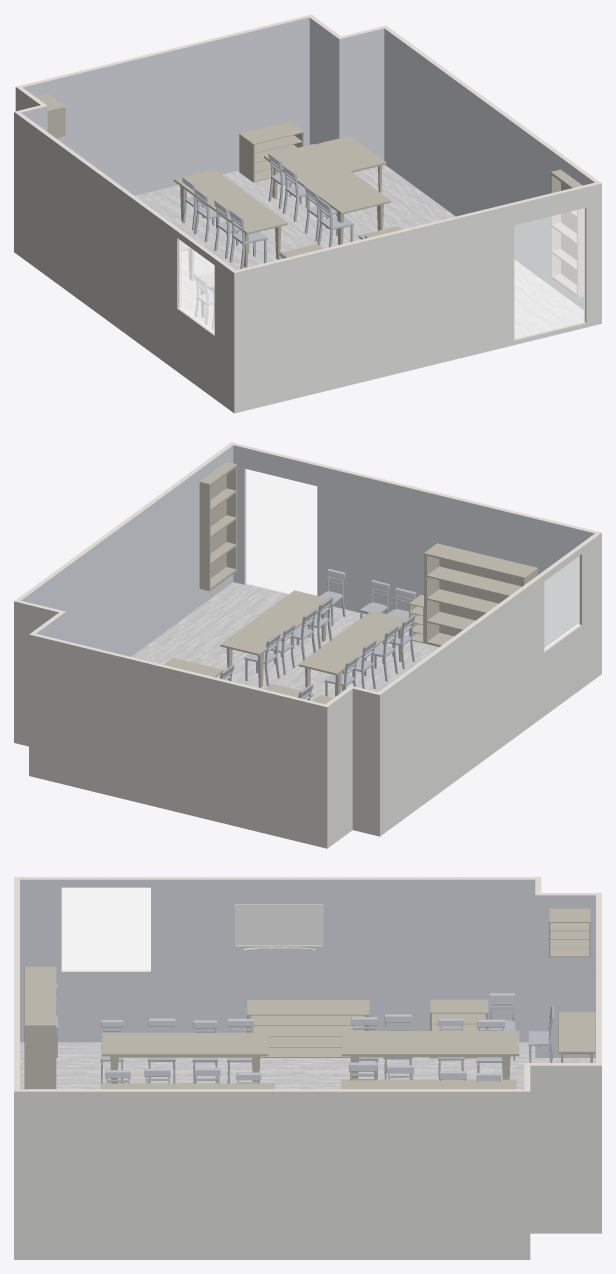
File: DigitalMakerHub2.glb
3 views of the same model, one above another, from view 1: azimuth 30°, elevation 25°; view 2: azimuth 150°, elevation 25°; view 3: azimuth 270°, elevation 25° (orthographic). The views are drawn at different scales.
Parts seen in each view (by area): view 1: ceiling_Dining_Room_2, wall_2, wall_8, wall_1, wall_20, floor_Dining_Room, door_0, door_2, ceiling_Dining_Room, wall_14, table_dining_rect5, wall_18 (+16 smaller); view 2: ceiling_Dining_Room_2, wall_0, wall_1, wall_12, wall_20, floor_Dining_Room, door_0, door_2, storage_shelf3, ceiling_Dining_Room, storage_shelf6, wall_4 (+18 smaller); view 3: ceiling_Dining_Room_2, wall_6, wall_10, wall_5, floor_Dining_Room, ceiling_Dining_Room, window_0, window_2, wall_22, storage_shelf0, table_dining_rect0, table_dining_rect2 (+17 smaller).
Boxes of the visible parts, x1,y1,x2,y2 form: ceiling_Dining_Room_2: [18, 29, 593, 270]; wall_2: [234, 183, 601, 413]; wall_8: [23, 17, 309, 195]; wall_1: [14, 112, 234, 412]; wall_20: [384, 28, 594, 309]; floor_Dining_Room: [135, 164, 584, 338]; door_0: [514, 208, 584, 338]; door_2: [514, 208, 584, 338]; ceiling_Dining_Room: [23, 18, 332, 104]; wall_14: [339, 28, 384, 160]; table_dining_rect5: [264, 144, 390, 244]; wall_18: [309, 18, 339, 144]; ceiling_Dining_Room_2: [18, 445, 593, 691]; wall_0: [29, 634, 327, 848]; wall_1: [380, 533, 601, 836]; wall_12: [233, 445, 594, 647]; wall_20: [21, 445, 233, 656]; floor_Dining_Room: [131, 582, 439, 700]; door_0: [246, 469, 316, 595]; door_2: [246, 469, 316, 594]; storage_shelf3: [424, 543, 537, 646]; ceiling_Dining_Room: [37, 616, 348, 704]; storage_shelf6: [199, 462, 236, 591]; wall_4: [352, 688, 379, 836]; ceiling_Dining_Room_2: [20, 879, 537, 1088]; wall_6: [14, 1091, 530, 1259]; wall_10: [20, 879, 535, 1042]; wall_5: [530, 1065, 601, 1233]; floor_Dining_Room: [20, 1042, 595, 1089]; ceiling_Dining_Room: [539, 895, 598, 1063]; window_0: [62, 888, 150, 970]; window_2: [62, 888, 150, 970]; wall_22: [535, 895, 595, 1057]; storage_shelf0: [247, 1000, 369, 1057]; table_dining_rect0: [341, 1031, 519, 1079]; table_dining_rect2: [102, 1032, 268, 1083].
Bounding box in the file's own units: 8.42 × 3.07 × 9.74.
67 materials, 1 textured.
